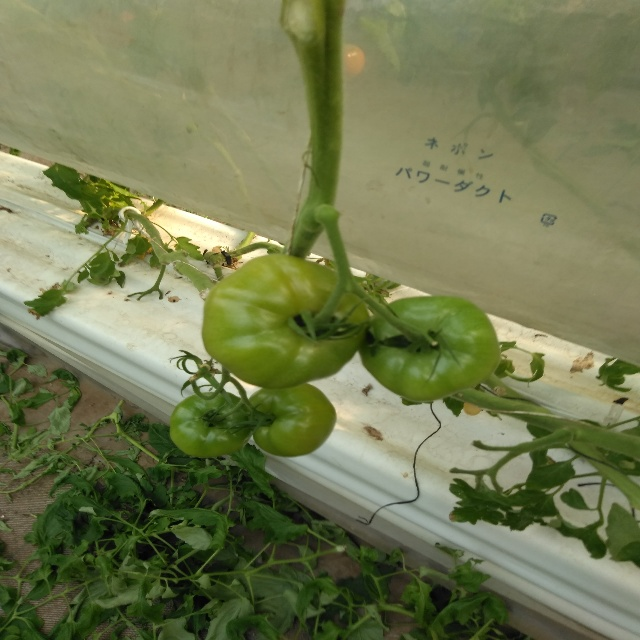b_green: (200, 253, 371, 389), (359, 296, 501, 402), (246, 383, 337, 457), (169, 392, 253, 458)
